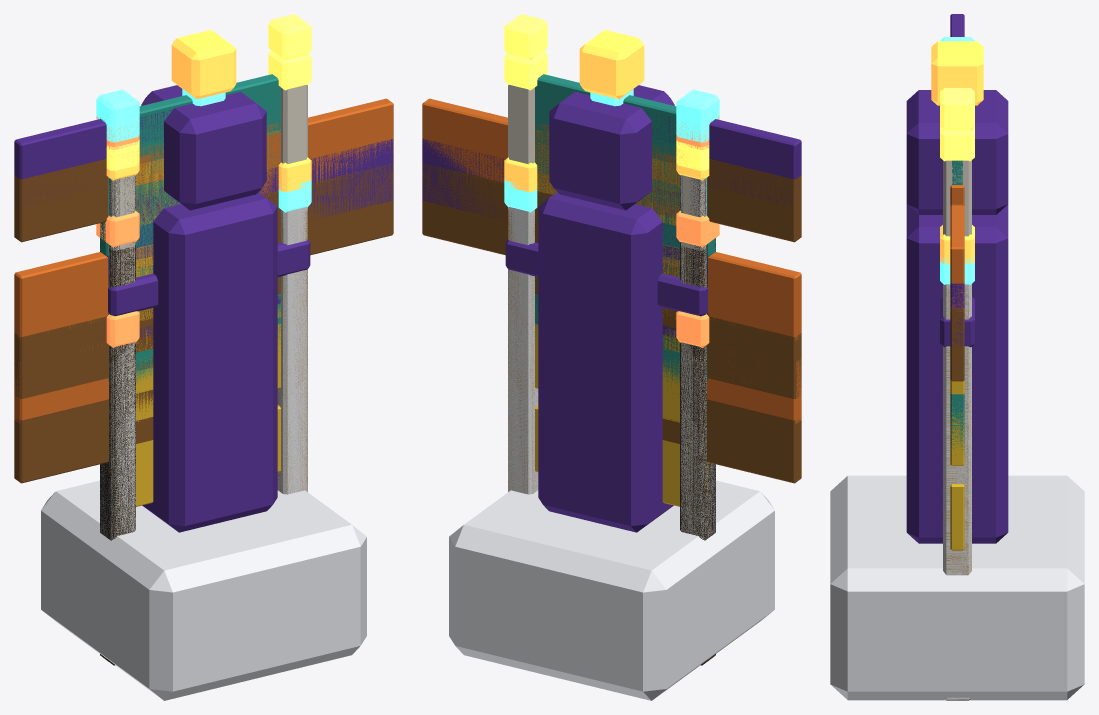
Rendered from flagship_props_020.glb.
3 renders of one model, left to right at view 1: azimuth 30°, elevation 25°; view 2: azimuth 150°, elevation 25°; view 3: azimuth 270°, elevation 25°, orthographic.
Parts seen in each view (by area): view 1: Prop_BBIsle_Statue_00, Prop_BBIsle_Sign_06, Prop_BBIsle_Sign_18, Prop_BBIsle_Sign_10, Prop_BBIsle_Sign_17, Prop_BBIsle_Sign_05, Prop_BBIsle_Sign_07, Prop_BBIsle_Sign_16, Prop_BBIsle_Sign_04, Prop_BBIsle_Sign_12, Prop_BBIsle_Sign_09, Prop_BBIsle_Sign_08 (+5 smaller); view 2: Prop_BBIsle_Statue_00, Prop_BBIsle_Sign_06, Prop_BBIsle_Sign_18, Prop_BBIsle_Sign_10, Prop_BBIsle_Sign_05, Prop_BBIsle_Sign_07, Prop_BBIsle_Sign_17, Prop_BBIsle_Sign_16, Prop_BBIsle_Sign_04, Prop_BBIsle_Sign_09, Prop_BBIsle_Sign_15, Prop_BBIsle_Sign_08 (+5 smaller); view 3: Prop_BBIsle_Statue_00, Prop_BBIsle_Sign_10, Prop_BBIsle_Sign_07, Prop_BBIsle_Sign_15, Prop_BBIsle_Sign_11, Prop_BBIsle_Sign_19, Prop_BBIsle_Sign_18, Prop_BBIsle_Sign_17, Prop_BBIsle_Sign_06, Prop_BBIsle_Sign_05, Prop_BBIsle_Sign_13, Prop_BBIsle_Sign_09 (+1 smaller).
Part boxes in pixels (x1,y1,x2,y2): Prop_BBIsle_Statue_00: [41, 30, 366, 700]; Prop_BBIsle_Sign_06: [14, 162, 393, 483]; Prop_BBIsle_Sign_18: [14, 98, 393, 423]; Prop_BBIsle_Sign_10: [100, 14, 311, 494]; Prop_BBIsle_Sign_17: [14, 109, 393, 220]; Prop_BBIsle_Sign_05: [100, 140, 280, 662]; Prop_BBIsle_Sign_07: [102, 157, 311, 494]; Prop_BBIsle_Sign_16: [14, 89, 393, 255]; Prop_BBIsle_Sign_04: [96, 210, 153, 665]; Prop_BBIsle_Sign_12: [100, 147, 280, 537]; Prop_BBIsle_Sign_09: [96, 116, 280, 539]; Prop_BBIsle_Sign_08: [96, 108, 280, 662]; Prop_BBIsle_Statue_00: [449, 30, 774, 700]; Prop_BBIsle_Sign_06: [422, 162, 801, 483]; Prop_BBIsle_Sign_18: [422, 98, 801, 423]; Prop_BBIsle_Sign_10: [504, 14, 714, 493]; Prop_BBIsle_Sign_05: [535, 140, 715, 659]; Prop_BBIsle_Sign_07: [504, 157, 714, 494]; Prop_BBIsle_Sign_17: [422, 110, 801, 225]; Prop_BBIsle_Sign_16: [422, 89, 801, 255]; Prop_BBIsle_Sign_04: [663, 210, 719, 665]; Prop_BBIsle_Sign_09: [535, 116, 719, 662]; Prop_BBIsle_Sign_15: [504, 50, 715, 492]; Prop_BBIsle_Sign_08: [535, 109, 719, 539]; Prop_BBIsle_Statue_00: [830, 41, 1084, 700]; Prop_BBIsle_Sign_10: [940, 88, 974, 699]; Prop_BBIsle_Sign_07: [940, 225, 974, 700]; Prop_BBIsle_Sign_15: [940, 127, 974, 699]; Prop_BBIsle_Sign_11: [940, 257, 974, 699]; Prop_BBIsle_Sign_19: [950, 405, 964, 550]; Prop_BBIsle_Sign_18: [950, 205, 964, 311]; Prop_BBIsle_Sign_17: [950, 14, 964, 346]; Prop_BBIsle_Sign_06: [950, 308, 964, 371]; Prop_BBIsle_Sign_05: [950, 394, 964, 455]; Prop_BBIsle_Sign_13: [940, 37, 974, 205]; Prop_BBIsle_Sign_09: [950, 204, 964, 435].
Size of the model in its own units: 1.5 by 2.29 by 0.8736.
